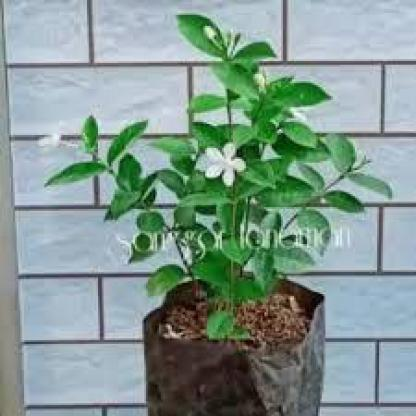Melati: (197, 140, 267, 190), (27, 114, 73, 156)
